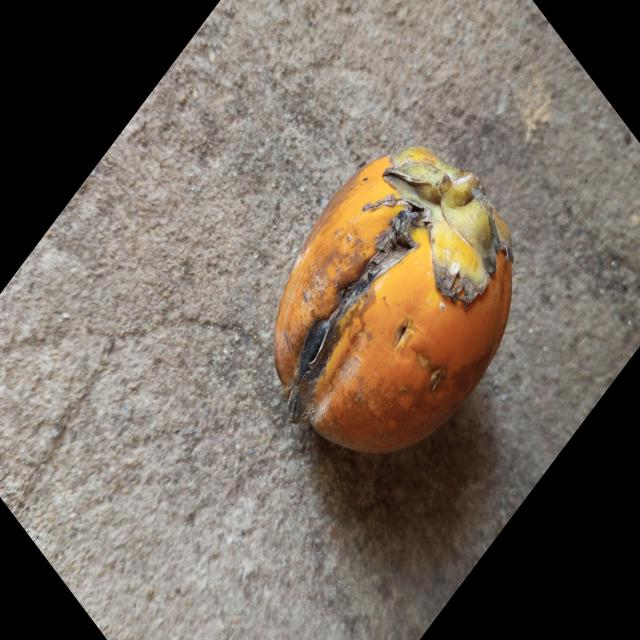damaged: (275, 146, 513, 453)
